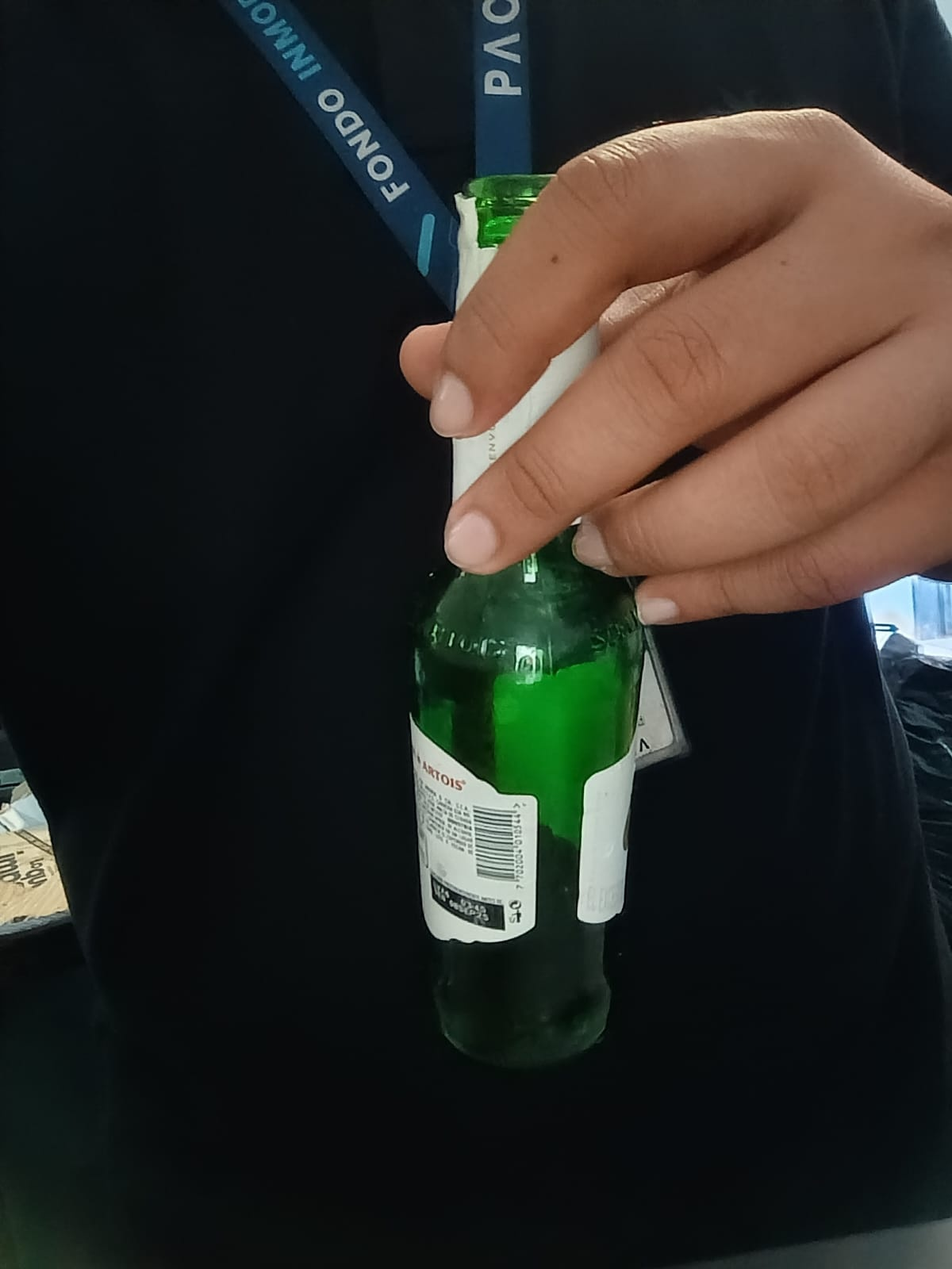Vidrio: (404, 173, 643, 1071)
